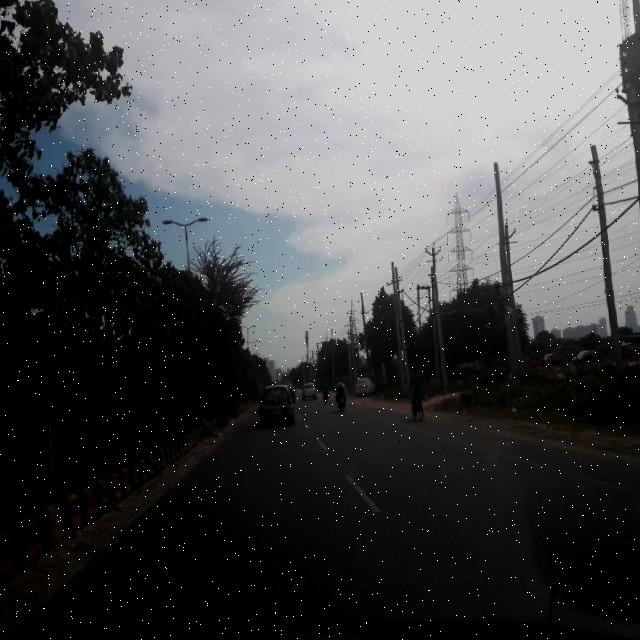D20: (142, 437, 630, 630)
D44: (460, 442, 634, 493)
